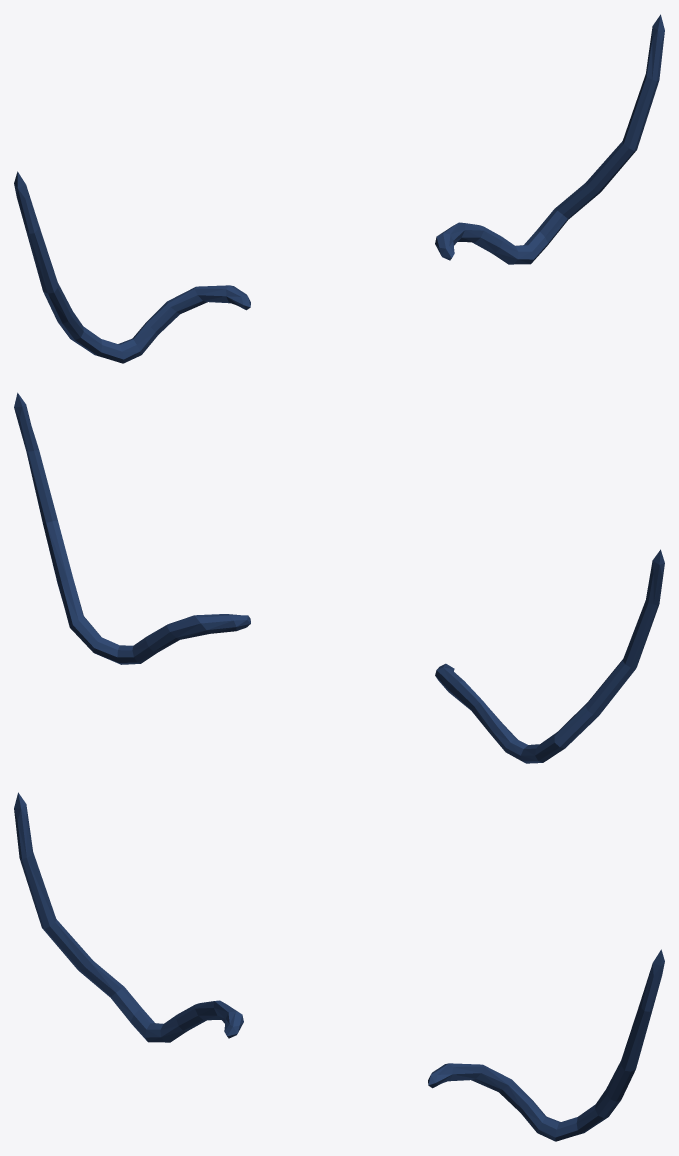
File: Vena Glútea Superior.FBX
The picture shows the model from 3 angles, top to bottom: view 1: azimuth 30°, elevation 25°; view 2: azimuth 150°, elevation 25°; view 3: azimuth 330°, elevation 25°; orthographic projection.
Parts seen in each view (by area): view 1: CS_Veins; view 2: CS_Veins; view 3: CS_Veins.
Part boxes in pixels (left/top/right/bottom): CS_Veins: left=14, top=14, right=664, bottom=363; CS_Veins: left=14, top=392, right=664, bottom=763; CS_Veins: left=14, top=792, right=664, bottom=1141.
Size of the model in its own units: 521 by 179 by 52.26.
